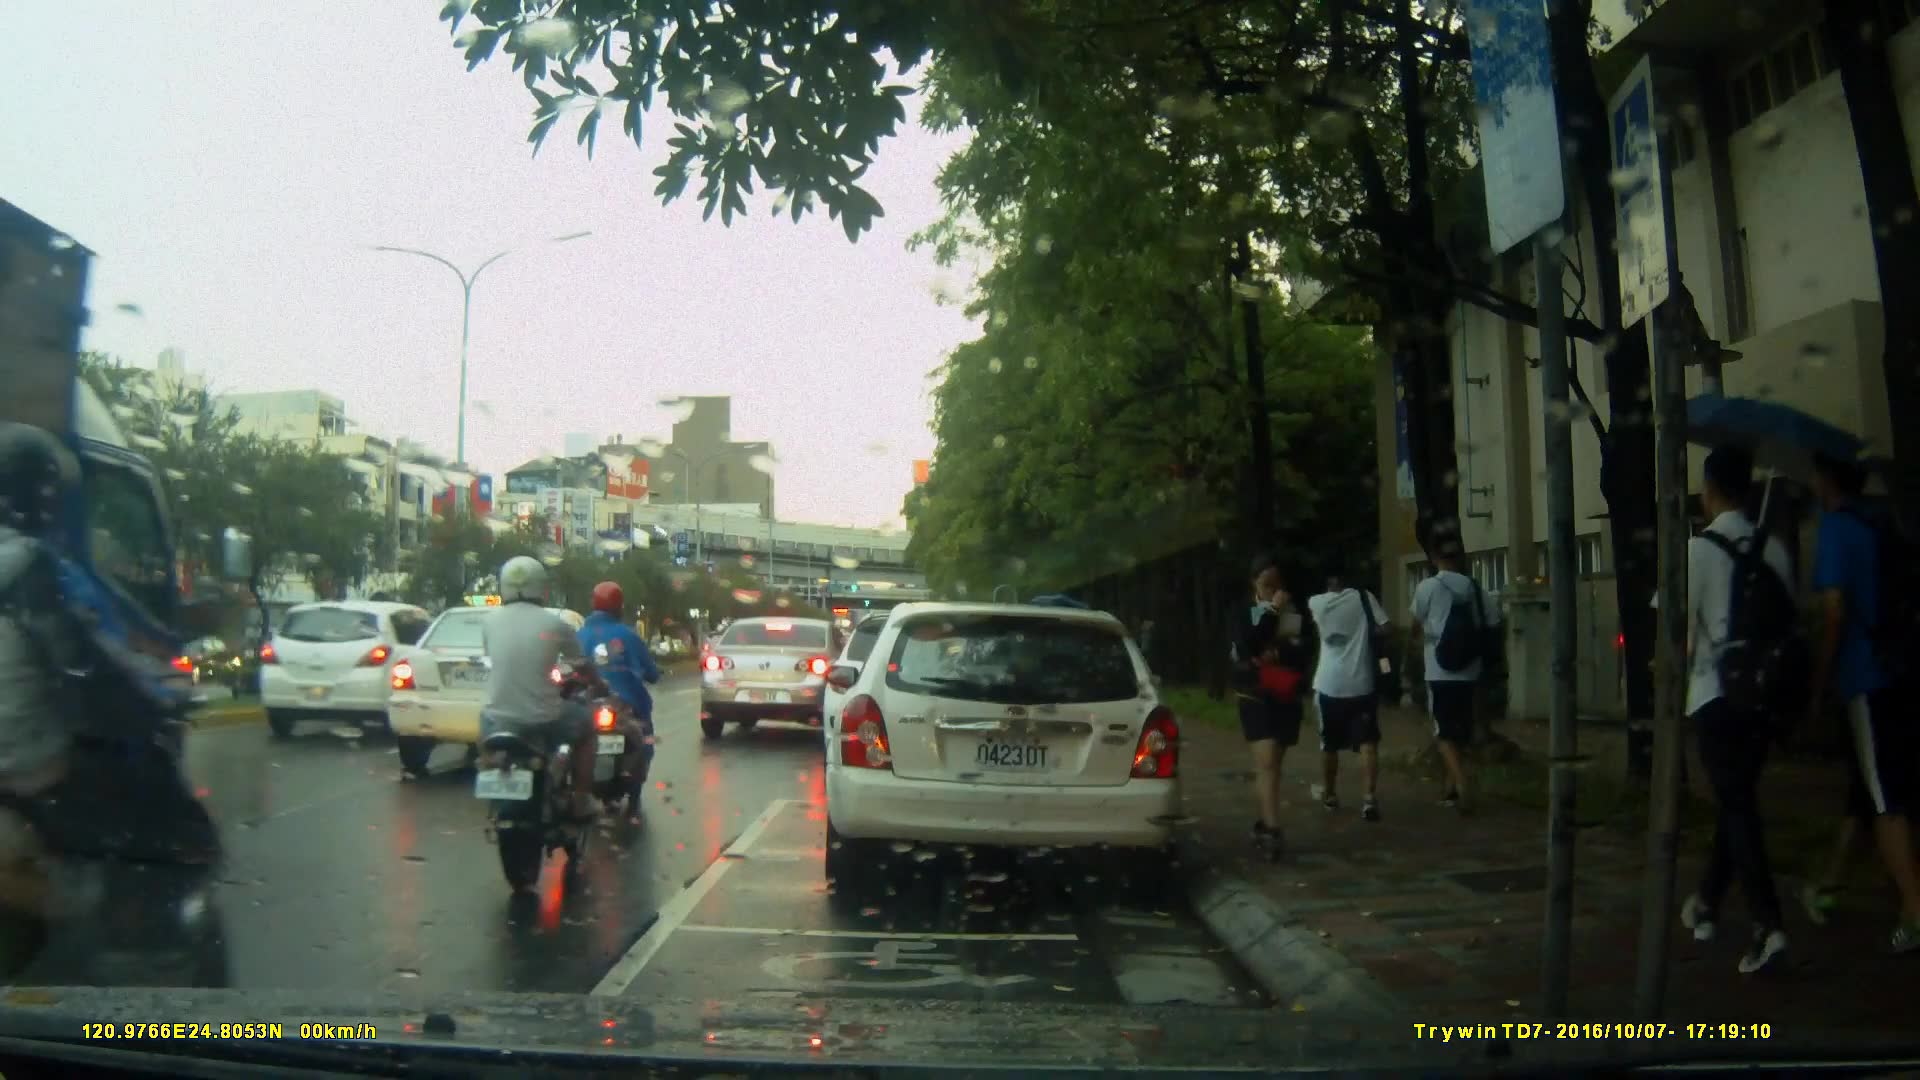pedestrian: (1761, 412, 1912, 952), (1633, 428, 1780, 959), (1397, 519, 1499, 826), (1231, 558, 1324, 861), (1294, 555, 1378, 825)
rider: (1, 425, 239, 1059), (477, 551, 605, 876), (570, 583, 673, 806)
vehicle: (820, 602, 1188, 898), (378, 603, 647, 783), (257, 599, 467, 743), (696, 614, 876, 742)
